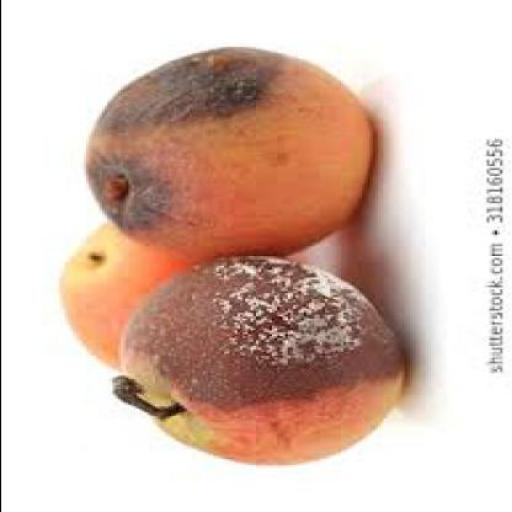biodegradable: (80, 50, 368, 264), (106, 260, 401, 467), (56, 224, 199, 374)
